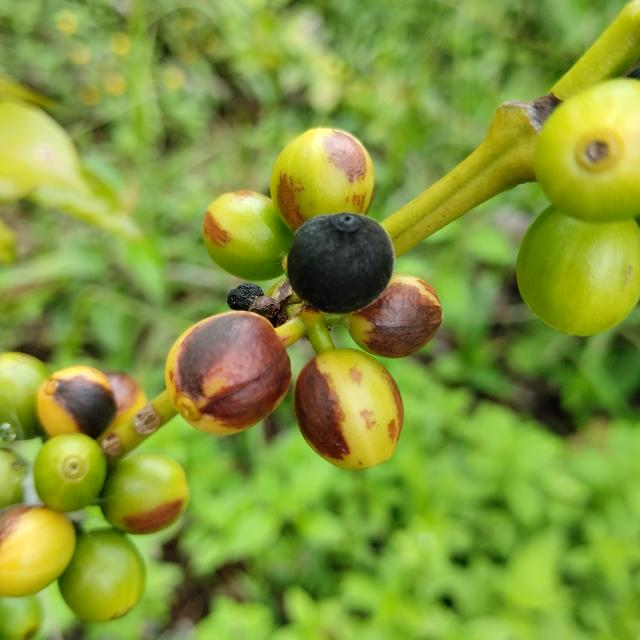Overripe: (165, 311, 291, 435), (294, 349, 404, 470), (287, 212, 395, 313), (270, 127, 375, 230), (343, 274, 443, 358), (203, 190, 293, 281), (36, 366, 116, 439)
Unripe: (518, 205, 640, 336), (535, 77, 640, 221), (58, 531, 145, 623), (101, 454, 189, 535), (0, 505, 75, 598), (32, 434, 105, 513), (0, 352, 49, 440), (103, 371, 140, 419)
